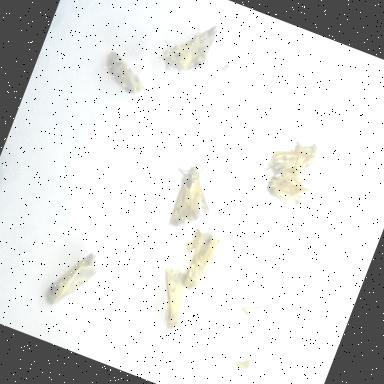abw: (154, 142, 232, 240), (150, 6, 225, 90), (38, 237, 109, 322), (141, 258, 204, 338), (260, 122, 328, 194), (174, 218, 232, 300), (255, 155, 322, 223), (92, 44, 157, 104)
